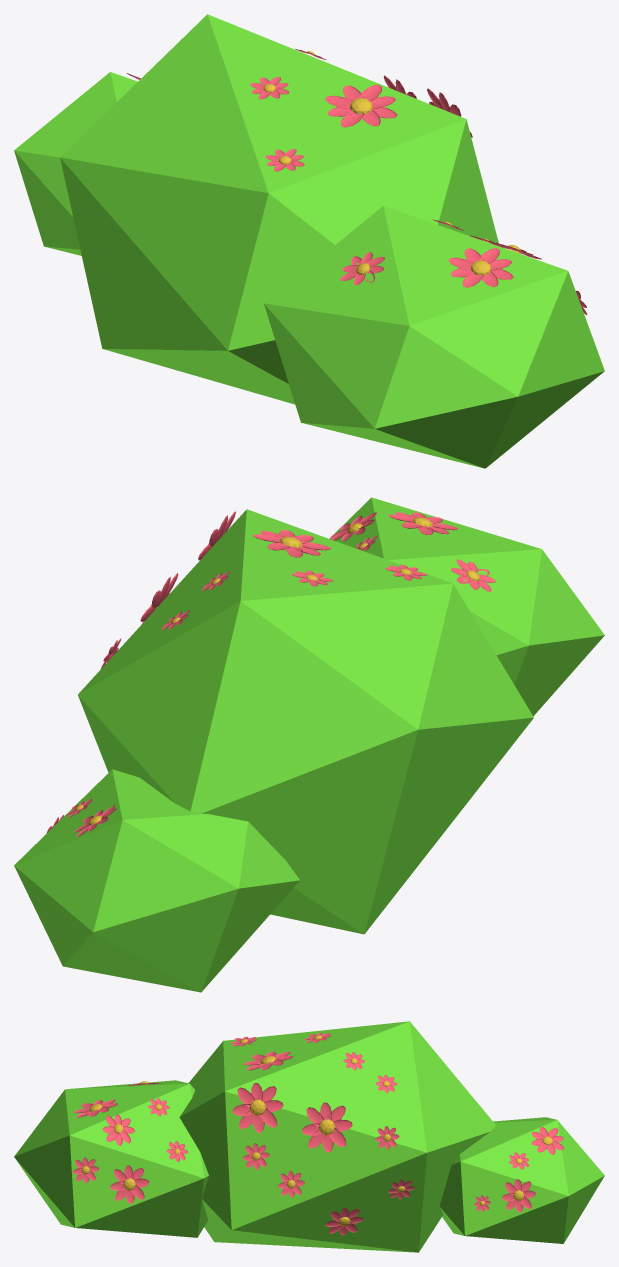
Rendered from Arbusto_Tipo_Flor.fbx.
3 views of the same model, one above another, from view 1: azimuth 30°, elevation 25°; view 2: azimuth 150°, elevation 25°; view 3: azimuth 270°, elevation 25° (orthographic). The views are drawn at different scales.
Parts seen in each view (by area): view 1: Icosphere.026; view 2: Icosphere.026; view 3: Icosphere.026.
Boxes of the visible parts, <box> form: Icosphere.026: <box>14,14,604,468</box>; Icosphere.026: <box>14,497,604,992</box>; Icosphere.026: <box>14,1021,604,1252</box>.
Bounding box in the file's own units: 509 × 453 × 1121.
